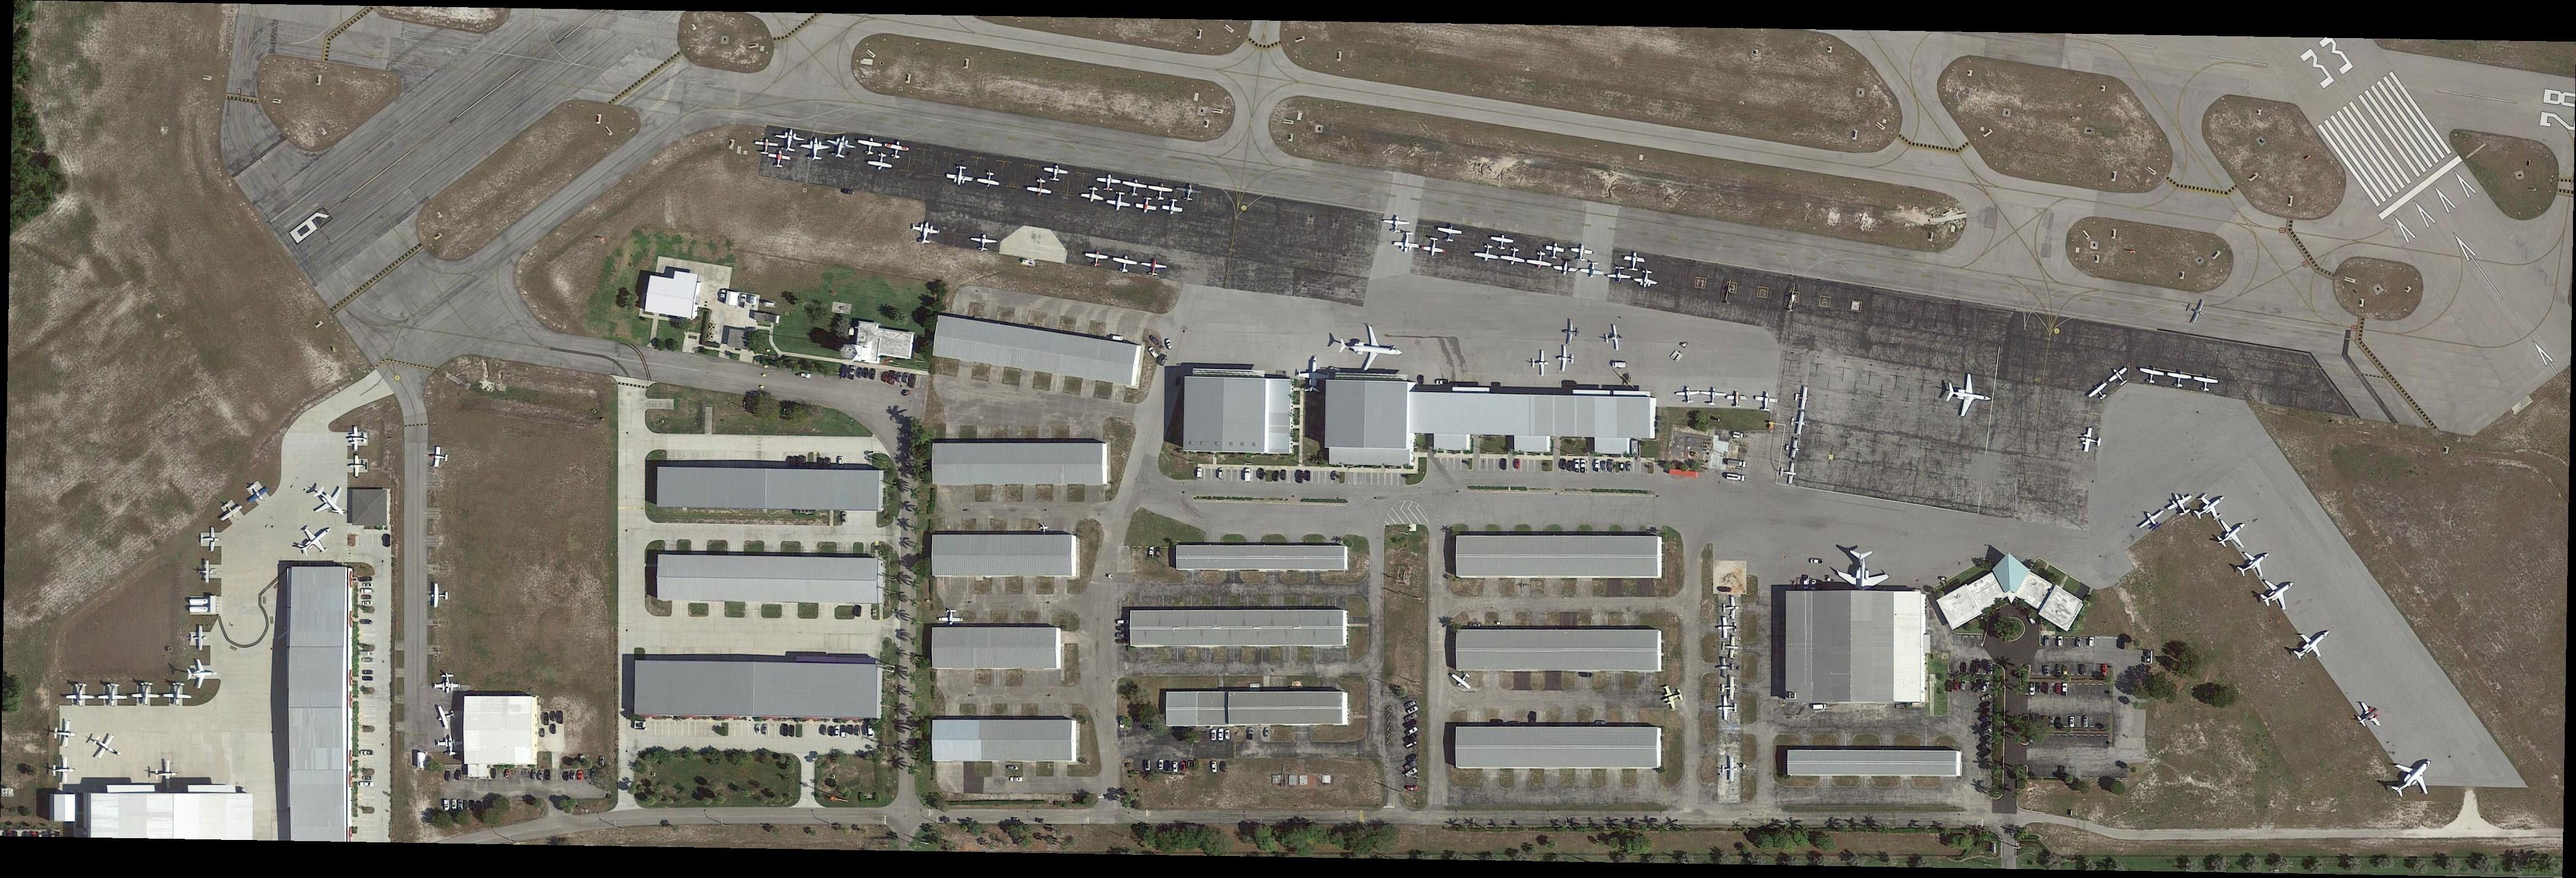plane: (2382, 746, 2445, 809), (1337, 322, 1405, 375), (1942, 370, 1996, 421), (2254, 566, 2303, 618), (1833, 551, 1889, 597), (306, 477, 355, 526), (2206, 510, 2256, 559), (291, 516, 342, 564), (2287, 620, 2338, 668), (2233, 541, 2277, 587), (2187, 485, 2233, 528), (2351, 697, 2387, 735), (1298, 355, 1331, 393), (2162, 488, 2198, 521), (2134, 505, 2170, 538), (89, 728, 120, 763), (823, 132, 858, 161), (187, 658, 217, 689), (215, 497, 245, 526), (242, 477, 271, 506), (909, 220, 941, 247), (772, 128, 805, 155), (2105, 363, 2134, 391), (2183, 294, 2210, 326), (943, 164, 976, 189), (1659, 682, 1686, 712), (2078, 426, 2105, 455), (1392, 230, 1423, 255), (1449, 668, 1477, 694), (2086, 380, 2114, 406), (434, 702, 458, 732), (53, 720, 77, 750), (1104, 189, 1134, 214), (800, 138, 831, 161), (1633, 266, 1661, 291), (1111, 252, 1139, 276), (99, 684, 128, 707), (1139, 256, 1168, 280), (856, 135, 884, 158), (131, 682, 159, 705), (154, 760, 177, 788), (163, 682, 191, 705), (1436, 222, 1464, 245), (1500, 245, 1528, 268), (866, 151, 894, 174), (1027, 176, 1055, 199), (2137, 365, 2165, 388), (66, 684, 95, 705), (1382, 214, 1411, 235), (434, 674, 460, 697), (437, 735, 463, 758), (53, 758, 76, 784), (1147, 181, 1173, 204), (882, 140, 910, 161), (1526, 250, 1554, 271), (1042, 161, 1070, 183), (1120, 178, 1148, 199), (1175, 183, 1203, 204), (1603, 324, 1625, 352), (2192, 373, 2220, 395), (1699, 386, 1727, 408), (347, 426, 368, 452), (1421, 237, 1447, 258), (1474, 243, 1500, 265), (1717, 695, 1738, 722), (976, 169, 1002, 191), (1556, 345, 1576, 373), (969, 233, 997, 253), (2165, 370, 2193, 390), (200, 528, 222, 552), (1134, 196, 1158, 217), (1787, 411, 1809, 436), (1753, 391, 1778, 413), (430, 584, 450, 610), (1579, 260, 1605, 280), (1553, 258, 1579, 278), (1083, 248, 1109, 268), (1096, 173, 1122, 192), (347, 455, 368, 478), (1717, 617, 1738, 640), (1714, 656, 1735, 679), (1622, 252, 1646, 271), (1571, 243, 1595, 263), (1490, 233, 1515, 253), (767, 150, 792, 169), (1081, 186, 1106, 206), (1779, 462, 1799, 487), (1783, 436, 1802, 460), (1792, 386, 1812, 411), (938, 608, 964, 626), (189, 625, 207, 651), (1531, 350, 1549, 377), (1161, 197, 1185, 217), (1562, 321, 1580, 345), (1676, 386, 1700, 404), (1722, 635, 1740, 659), (754, 138, 779, 156), (1607, 266, 1633, 283), (430, 446, 449, 469), (1722, 597, 1740, 620), (1720, 677, 1738, 700), (1722, 758, 1738, 783), (1544, 242, 1566, 260), (197, 561, 214, 584), (1727, 391, 1748, 408)
